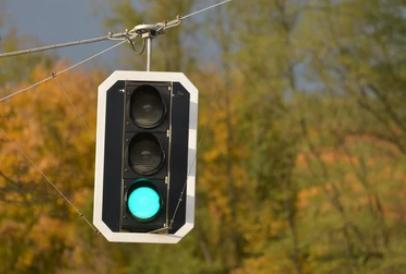green_light: (93, 70, 199, 243)
